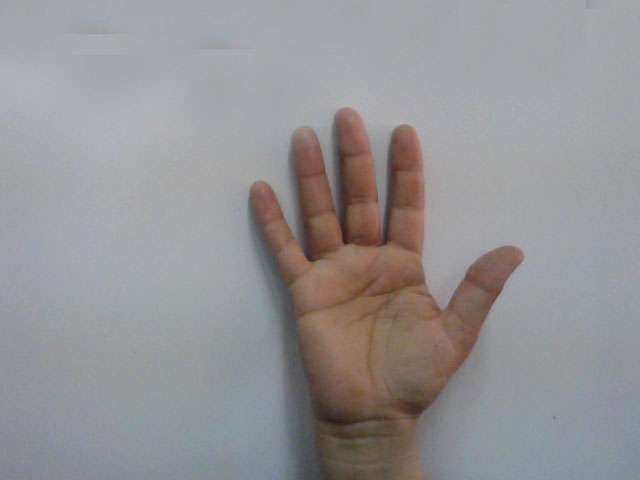hand: (226, 97, 531, 404)
